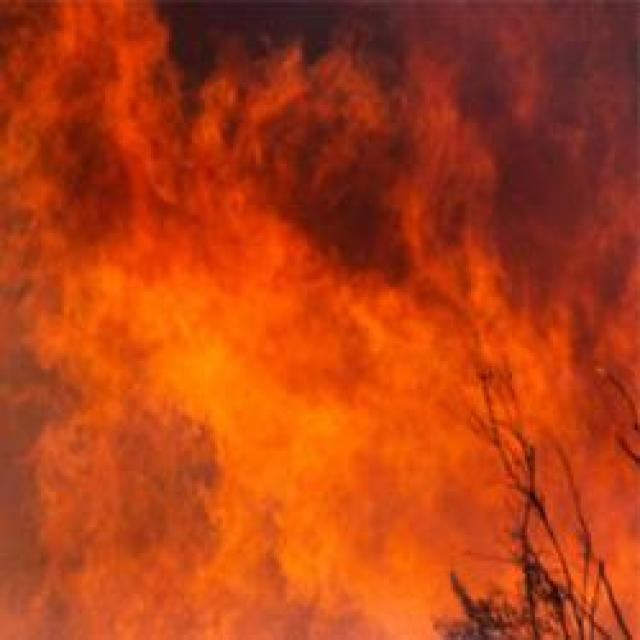fire: (310, 321, 435, 488), (201, 220, 325, 358), (208, 344, 328, 474), (315, 467, 437, 589), (127, 254, 233, 391), (60, 142, 153, 292), (158, 162, 252, 293), (109, 24, 170, 159)
smoke: (481, 3, 640, 132), (545, 138, 640, 292), (0, 443, 74, 640), (174, 0, 350, 59)
